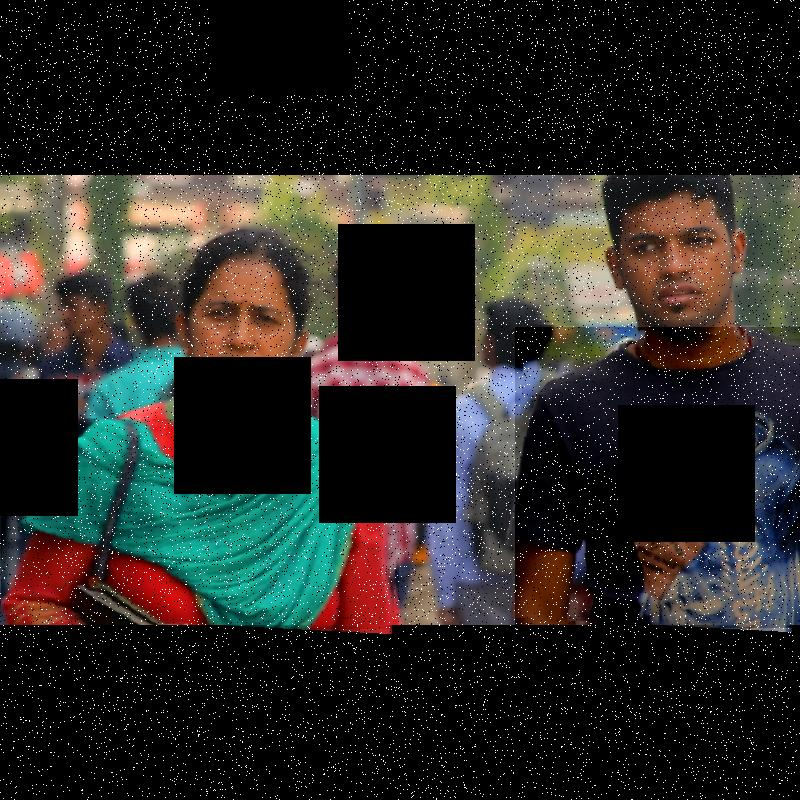Churidaar: (1, 419, 399, 629)
Tshirt: (515, 327, 800, 628)
